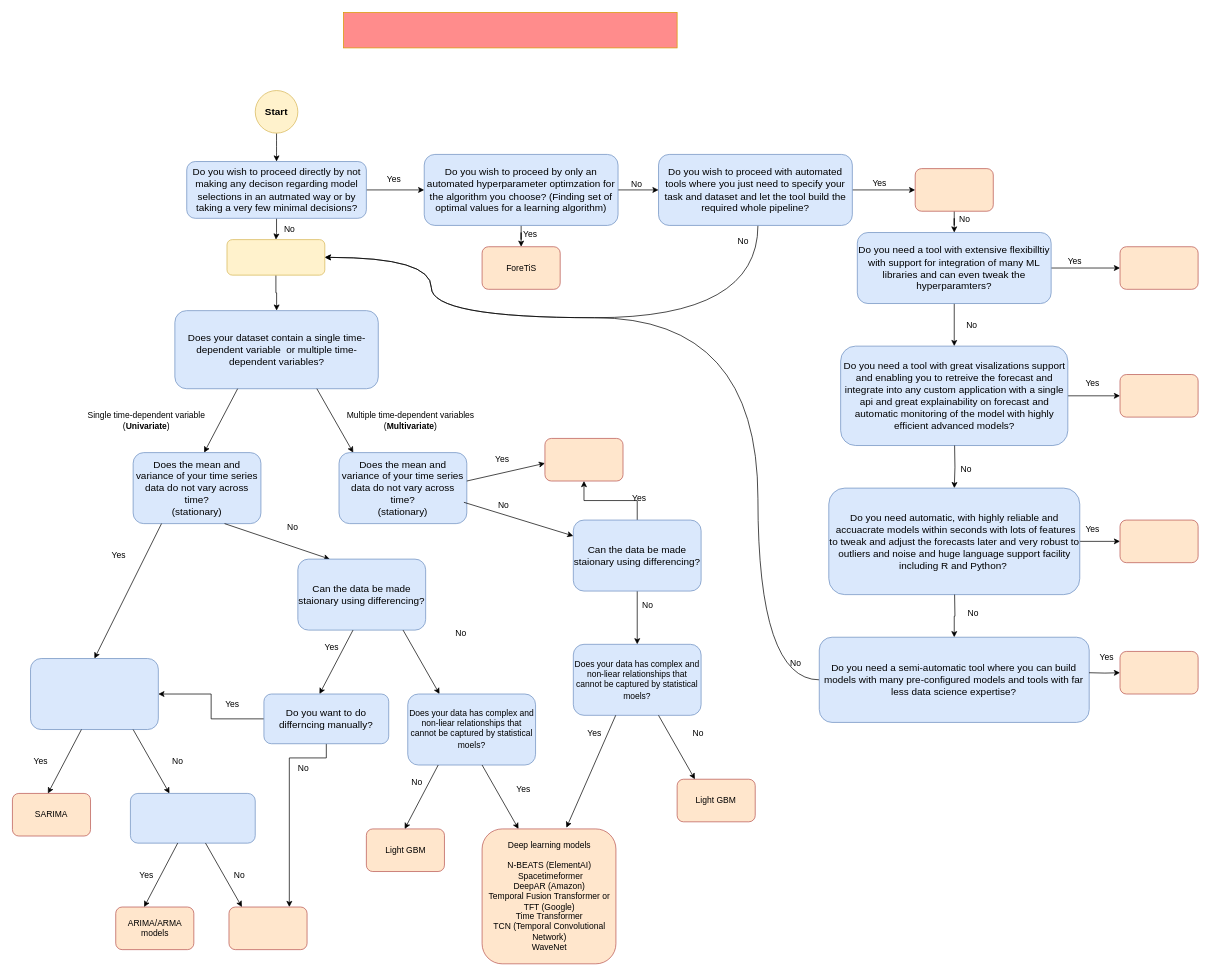
Image size: 1211x976. Some labels were removed from this diagram. Each missing label, with the box of its shape:
Amazon Forecast: (1119, 374, 1198, 417)
Auto ARIMA: (228, 906, 307, 950)
Dataset: (226, 239, 325, 275)
Do you want to calculate all parameters for ARIMA manually?: (130, 793, 255, 843)
Does your time series data have seasonal component?: (30, 658, 158, 730)
FEDOT: (1119, 246, 1198, 289)
FEDOT Amazon Forecast Vertex AI Phrophet: (914, 168, 993, 211)
Phrophet: (1119, 519, 1198, 563)
TIME SERIES FORECASTING: (343, 12, 677, 48)
VAR/VARX: (544, 438, 623, 481)
Vertex AI: (1119, 651, 1198, 694)
